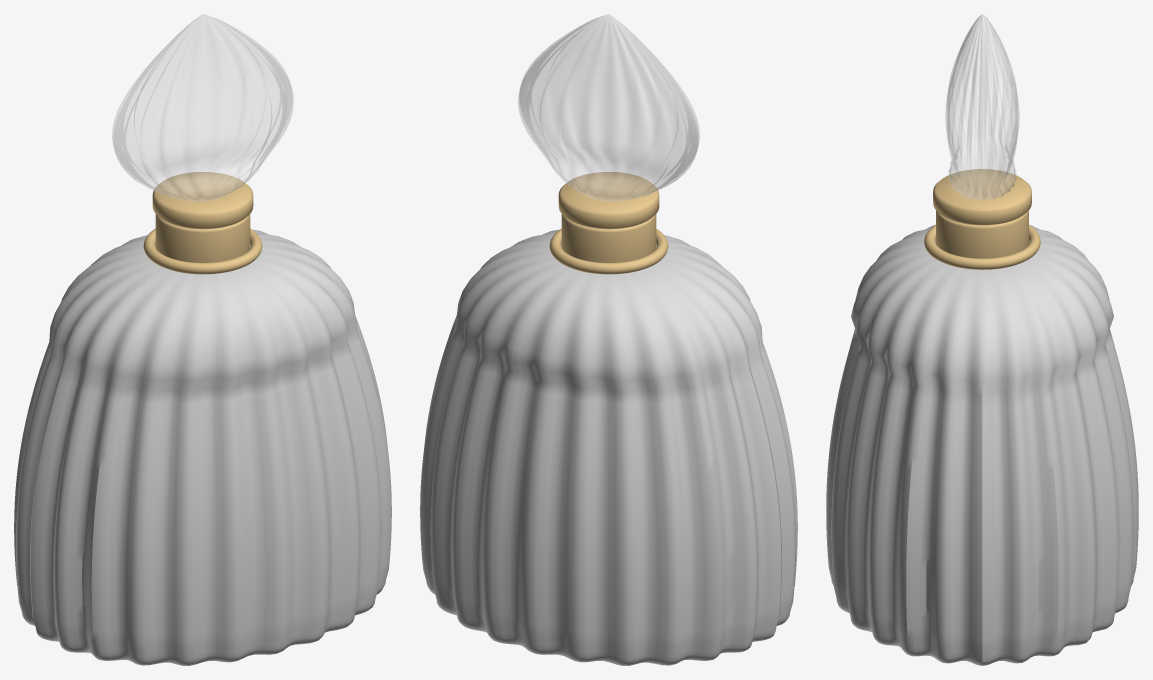
Rendered from ornate-filigree.glb.
3 renders of one model, left to right at view 1: azimuth 30°, elevation 25°; view 2: azimuth 150°, elevation 25°; view 3: azimuth 270°, elevation 25°, orthographic.
Parts seen in each view (by area): view 1: Glass_Body, Stopper, Stopper_Base, Collar, Collar_BeadRing; view 2: Glass_Body, Stopper, Stopper_Base, Collar, Collar_BeadRing; view 3: Glass_Body, Stopper, Stopper_Base, Collar, Collar_BeadRing.
Boxes of the visible parts, box(x1,y1,x2,y2) form: Glass_Body: box(14, 229, 391, 665); Stopper: box(112, 14, 293, 201); Stopper_Base: box(152, 172, 253, 229); Collar: box(155, 214, 250, 262); Collar_BeadRing: box(143, 228, 262, 274); Glass_Body: box(420, 229, 797, 665); Stopper: box(518, 14, 699, 201); Stopper_Base: box(558, 172, 659, 229); Collar: box(561, 214, 656, 262); Collar_BeadRing: box(549, 228, 668, 274); Glass_Body: box(826, 225, 1138, 665); Stopper: box(945, 14, 1019, 200); Stopper_Base: box(933, 169, 1031, 225); Collar: box(936, 210, 1028, 258); Collar_BeadRing: box(924, 225, 1040, 269).
Bounding box in the file's own units: 0.0831 × 0.1355 × 0.0665.
